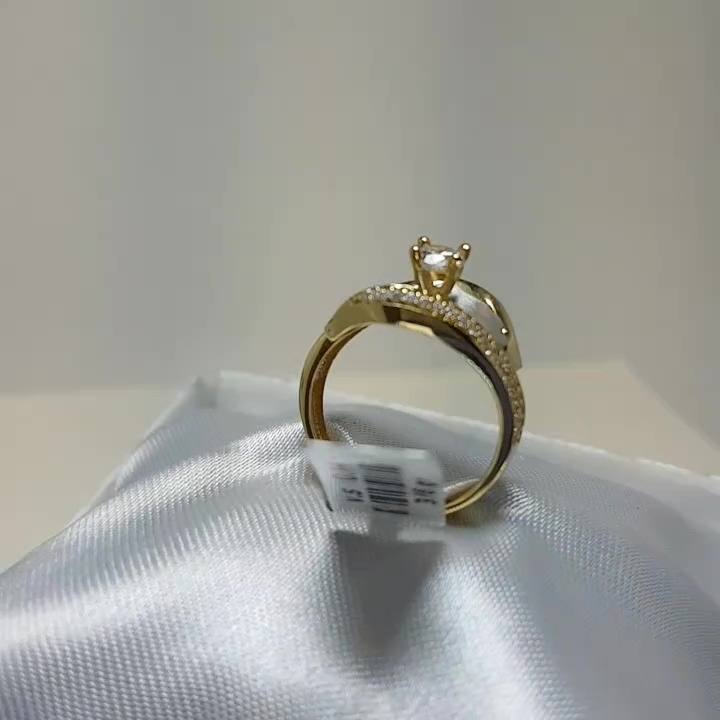Ring 6: (270, 219, 553, 541)
